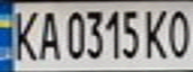0: (60, 7, 84, 61)
1: (103, 7, 124, 60)
3: (81, 7, 106, 61)
5: (121, 6, 145, 60)
A: (33, 7, 63, 62)
K: (6, 6, 42, 62), (139, 6, 172, 60)
O: (163, 4, 193, 60)
